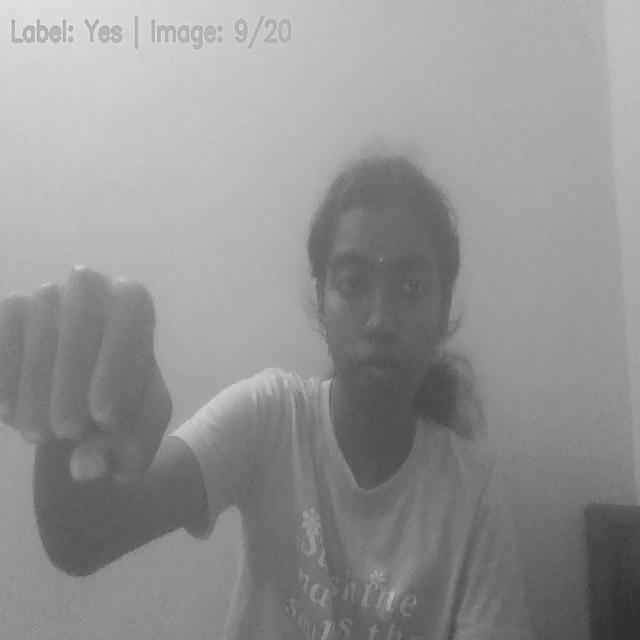Yes: (6, 266, 178, 484)
